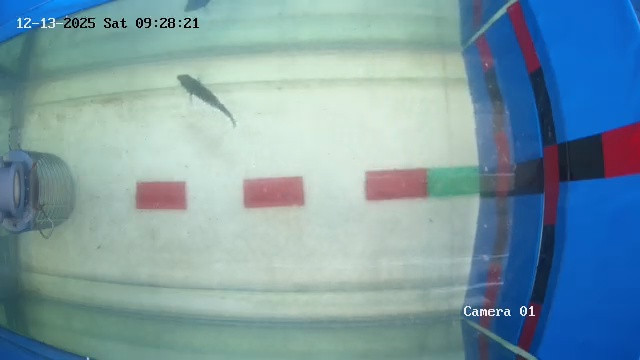fish: (176, 68, 230, 132)
